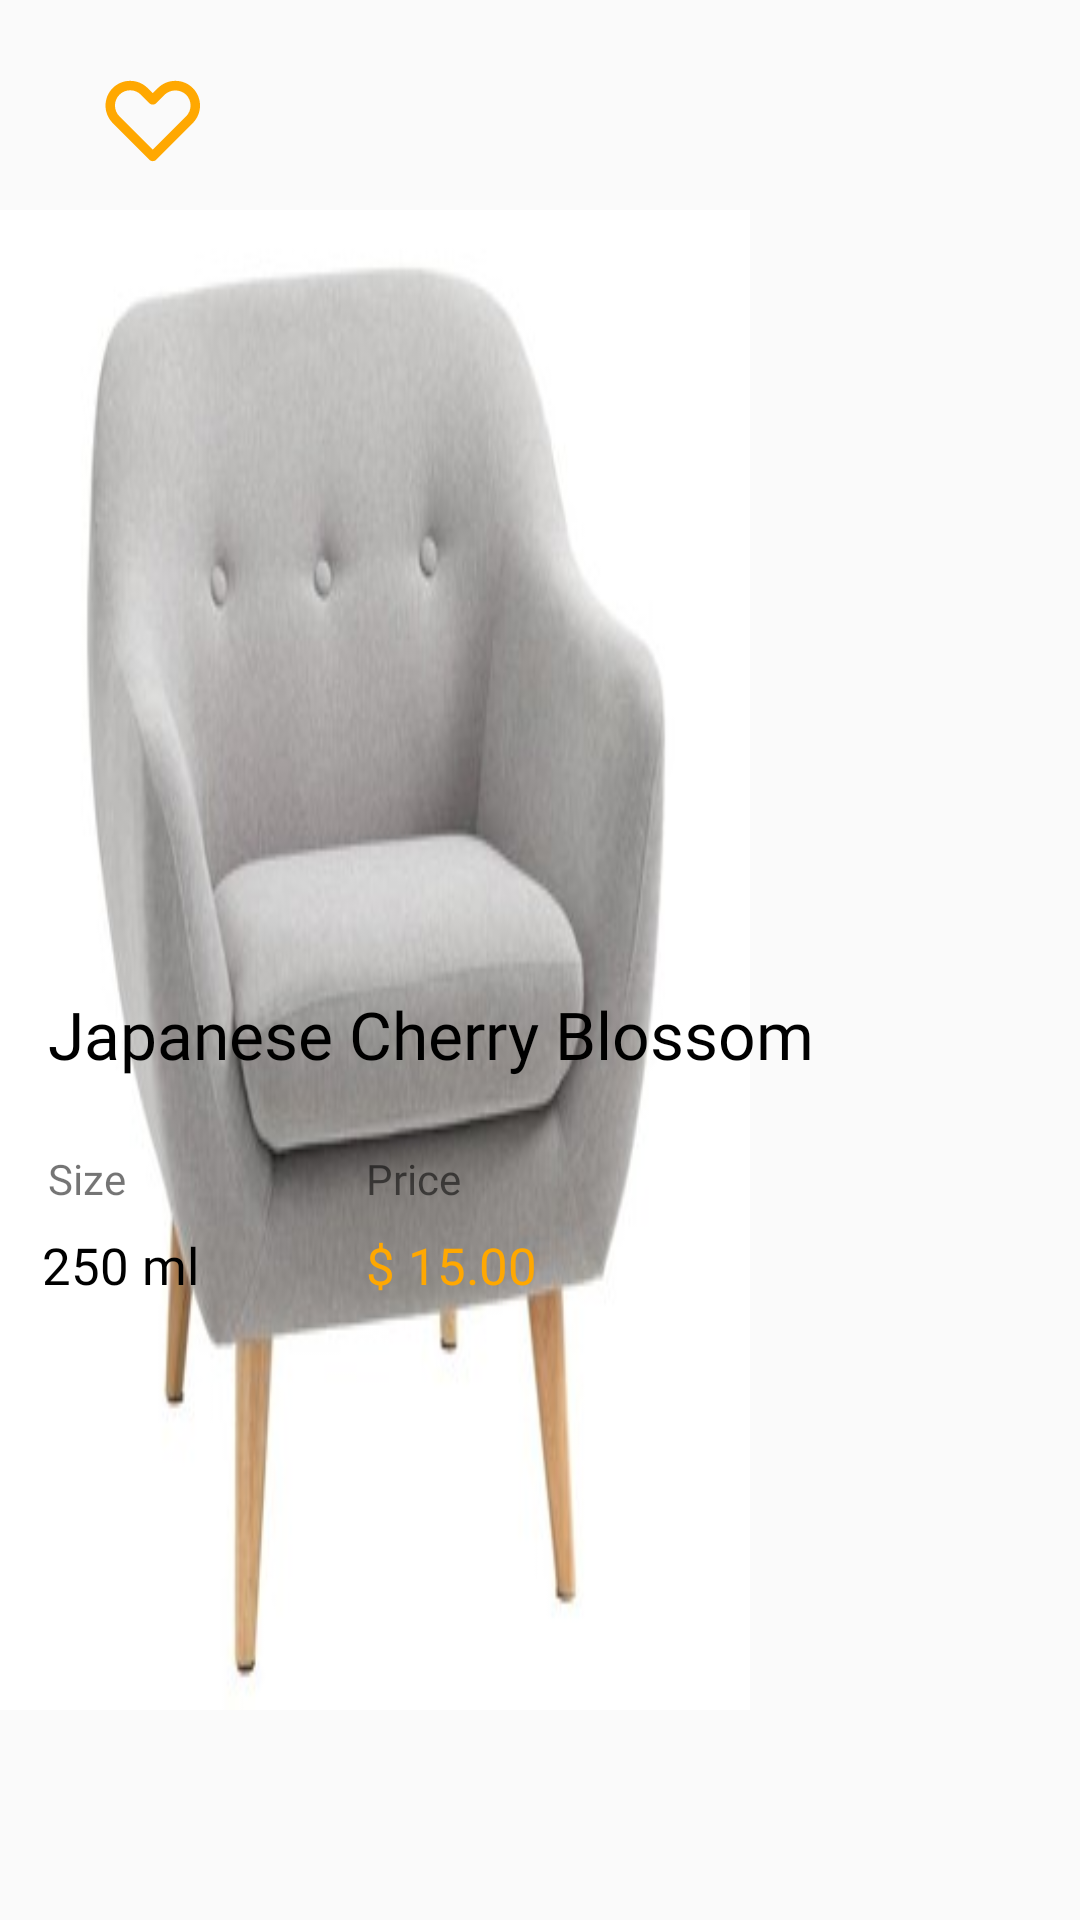

Screen size 1080px x 1920px. Icon name, then its center in pixels as [x,y]:
heart: [152,121]
